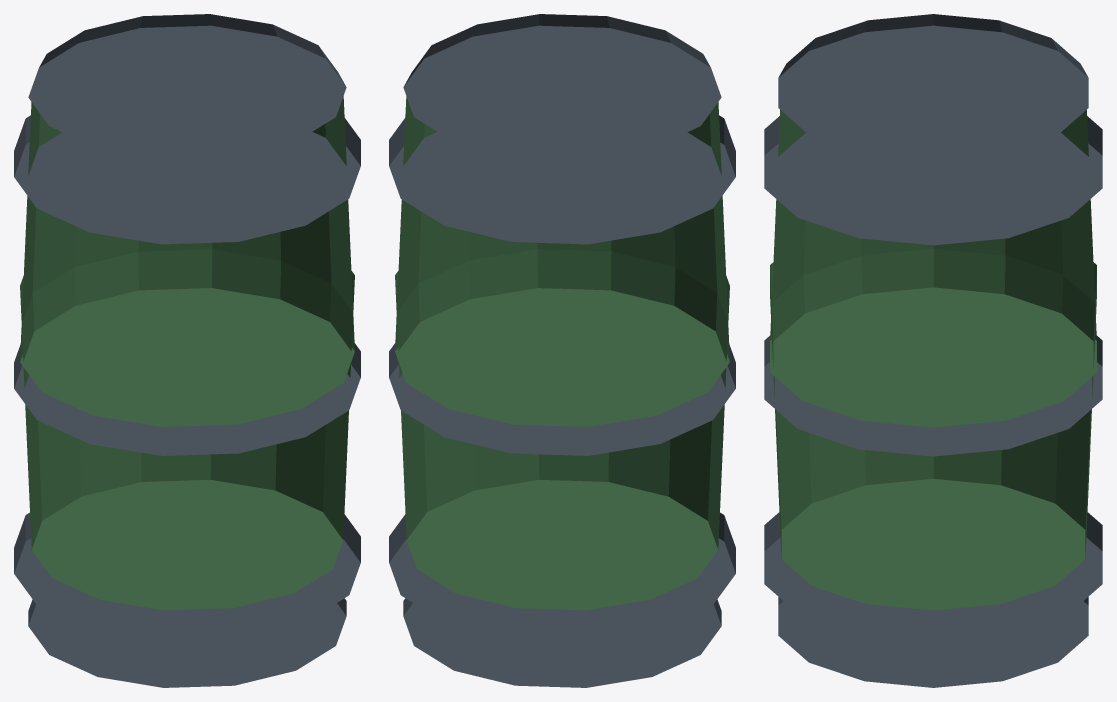
Rendered from barrel_01.glb.
3 views of the same model, side by side, from view 1: azimuth 30°, elevation 25°; view 2: azimuth 150°, elevation 25°; view 3: azimuth 270°, elevation 25° (orthographic).
Parts seen in each view (by area): view 1: barrel_01; view 2: barrel_01; view 3: barrel_01.
Boxes of the visible parts, box(x1,y1,x2,y2) form: barrel_01: box(14, 14, 360, 687); barrel_01: box(389, 14, 735, 687); barrel_01: box(764, 14, 1102, 687).
Bounding box in the file's own units: 0.6205 × 1.07 × 0.6049.
